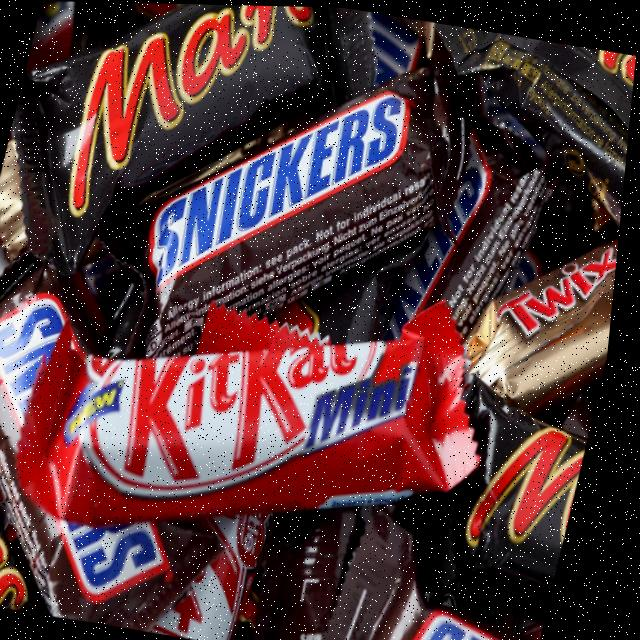kitkat: (9, 243, 526, 563)
